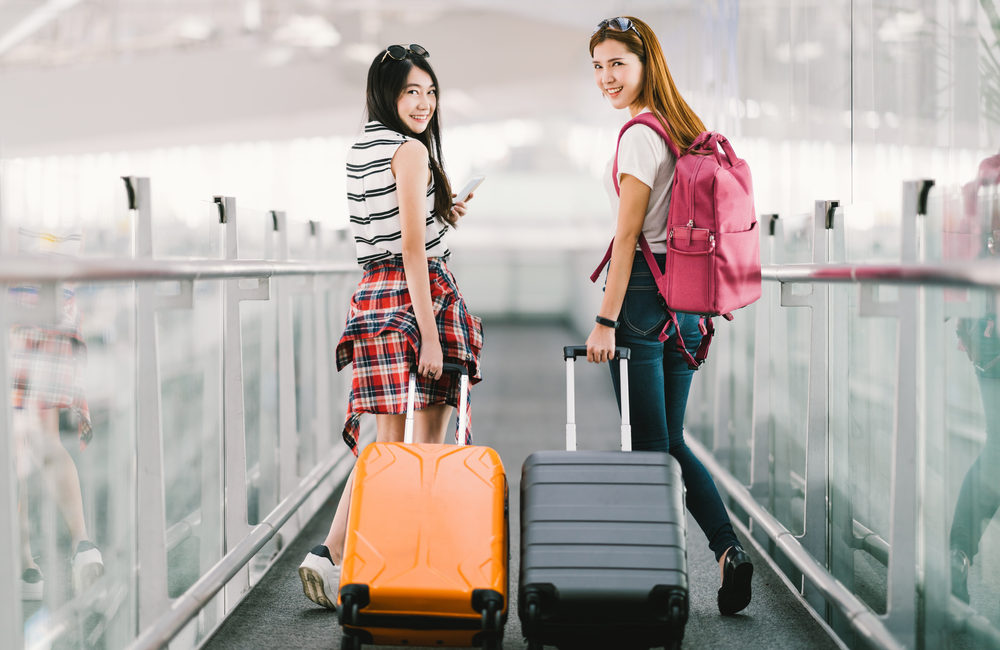backpack: (611, 111, 766, 320)
luggage: (516, 343, 694, 648), (331, 357, 515, 645)
people: (300, 31, 488, 631), (582, 15, 763, 628)
